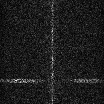wifi: (1, 78, 104, 83)
